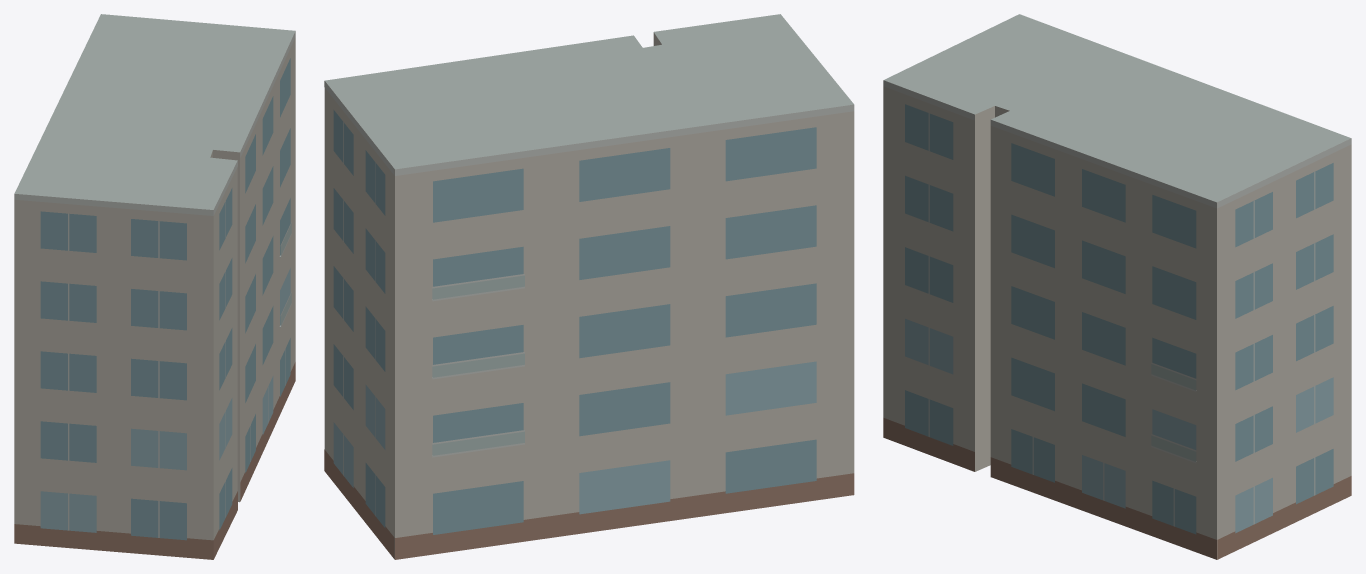
The model's file is survey-upis-32676553.glb.
The picture shows the model from 3 angles, left to right: view 1: azimuth 30°, elevation 25°; view 2: azimuth 150°, elevation 25°; view 3: azimuth 270°, elevation 25°; orthographic projection. The views are drawn at different scales.
Visible parts, largest first — view 1: survey-upis-32676553.tmp; view 2: survey-upis-32676553.tmp; view 3: survey-upis-32676553.tmp.
Boxes of the visible parts, x1,y1,x2,y2 form: survey-upis-32676553.tmp: (14, 14, 295, 559); survey-upis-32676553.tmp: (324, 14, 854, 559); survey-upis-32676553.tmp: (883, 14, 1351, 559).
Size of the model in its own units: 16.18 by 14.3 by 16.98.
